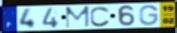4: (18, 8, 39, 30), (41, 7, 60, 29)
6: (117, 4, 137, 27)
C: (89, 6, 111, 28)
G: (138, 4, 159, 26)
M: (65, 5, 91, 29)
